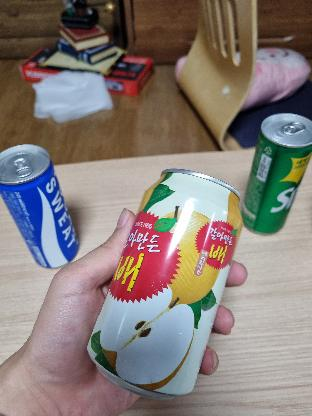Can: (96, 169, 250, 392)
